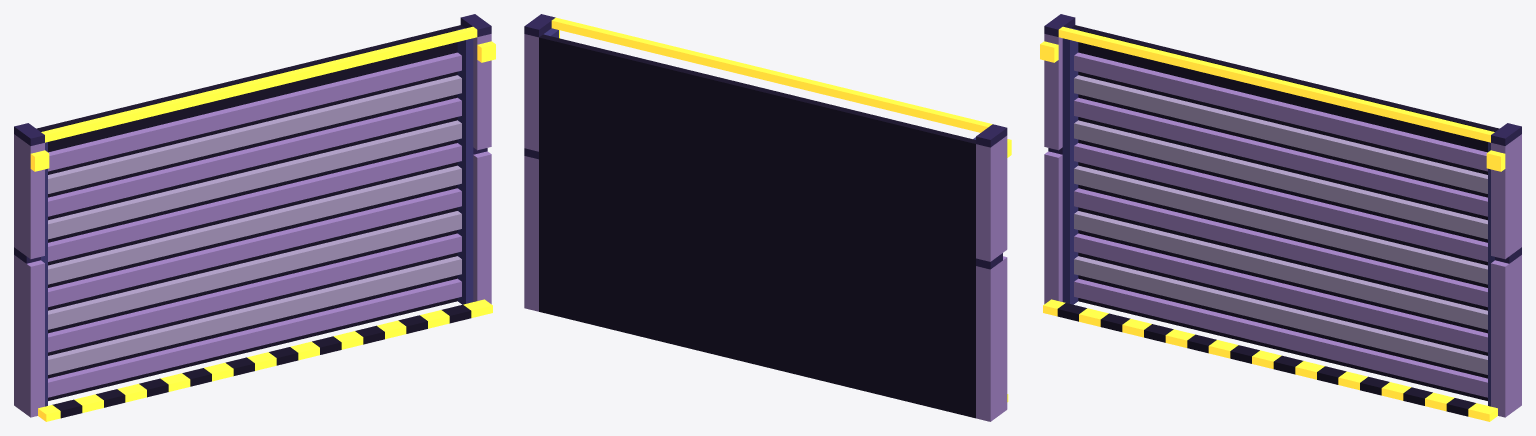
Rendered from cargo-door.4m.glb.
3 views of the same model, side by side, from view 1: azimuth 30°, elevation 25°; view 2: azimuth 150°, elevation 25°; view 3: azimuth 330°, elevation 25° (orthographic).
Visible parts, largest first — view 1: cargo-door.4m; view 2: cargo-door.4m; view 3: cargo-door.4m.
Boxes of the visible parts, x1=… form: cargo-door.4m: x1=14, y1=14, x2=495, y2=421; cargo-door.4m: x1=524, y1=14, x2=1011, y2=421; cargo-door.4m: x1=1040, y1=14, x2=1521, y2=421.
Bounding box in the file's own units: 4 × 2.31 × 0.375.
